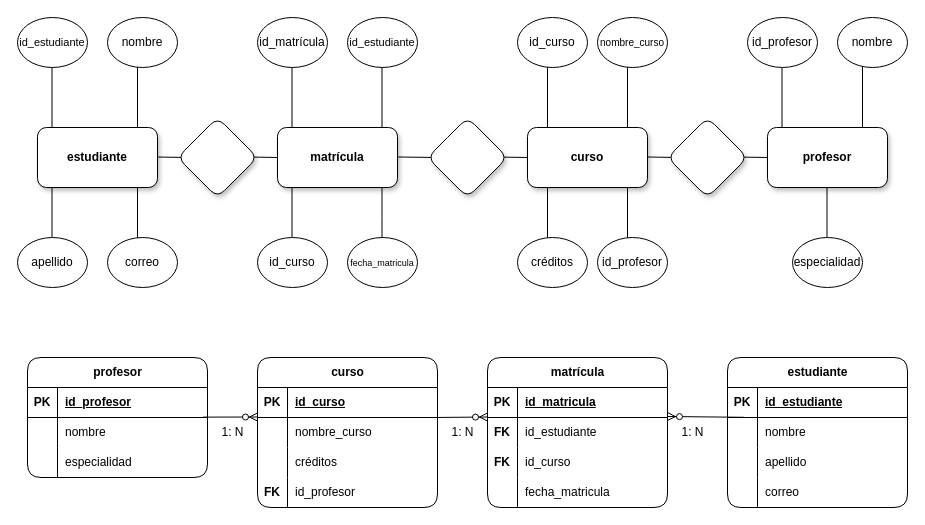
Some shapes in this 925 by 525 pixel diagram are drawn without their labels. Each missing label, with the centre of its shape:
dicta: (708,158)
en: (468,158)
se: (218,158)
